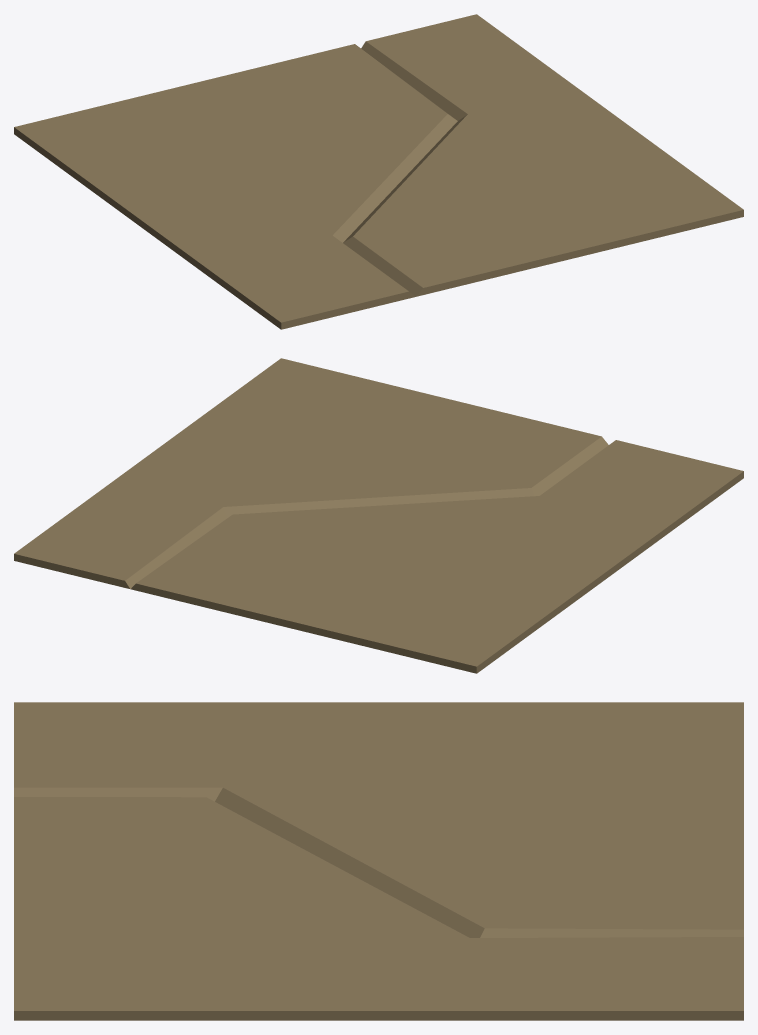
The model's file is Roof_Tile_1_low.fbx.
3 renders of one model, top to bottom at view 1: azimuth 30°, elevation 25°; view 2: azimuth 150°, elevation 25°; view 3: azimuth 270°, elevation 25°, orthographic. The views are drawn at different scales.
Parts seen in each view (by area): view 1: Roof_Tile_1_low; view 2: Roof_Tile_1_low; view 3: Roof_Tile_1_low.
Part boxes in pixels (<box>): Roof_Tile_1_low: <box>14,14,743,329</box>; Roof_Tile_1_low: <box>14,358,743,673</box>; Roof_Tile_1_low: <box>14,702,743,1020</box>.
Size of the model in its own units: 1 by 0.0147 by 1.
